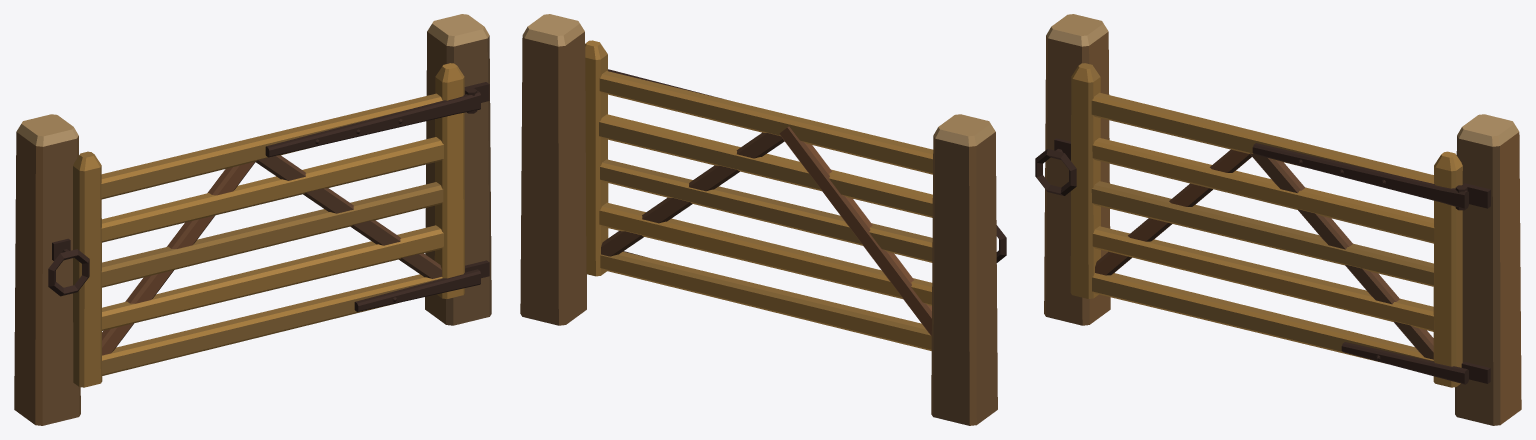
The model's file is farm-gate-8ab320.glb.
3 views of the same model, side by side, from view 1: azimuth 30°, elevation 25°; view 2: azimuth 150°, elevation 25°; view 3: azimuth 330°, elevation 25° (orthographic).
Parts seen in each view (by area): view 1: gate-leaf, posts, latch; view 2: gate-leaf, posts; view 3: gate-leaf, posts, latch.
Boxes of the visible parts, bbox=[...] form: gate-leaf: bbox=[73, 63, 480, 387]; posts: bbox=[14, 14, 491, 425]; latch: bbox=[48, 238, 89, 296]; gate-leaf: bbox=[585, 40, 933, 350]; posts: bbox=[520, 14, 997, 425]; gate-leaf: bbox=[1070, 63, 1468, 387]; posts: bbox=[1044, 14, 1521, 425]; latch: bbox=[1035, 138, 1076, 195].
Bounding box in the file's own units: 2 × 1.2 × 0.284.
